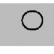no answer: (19, 7, 45, 32)
